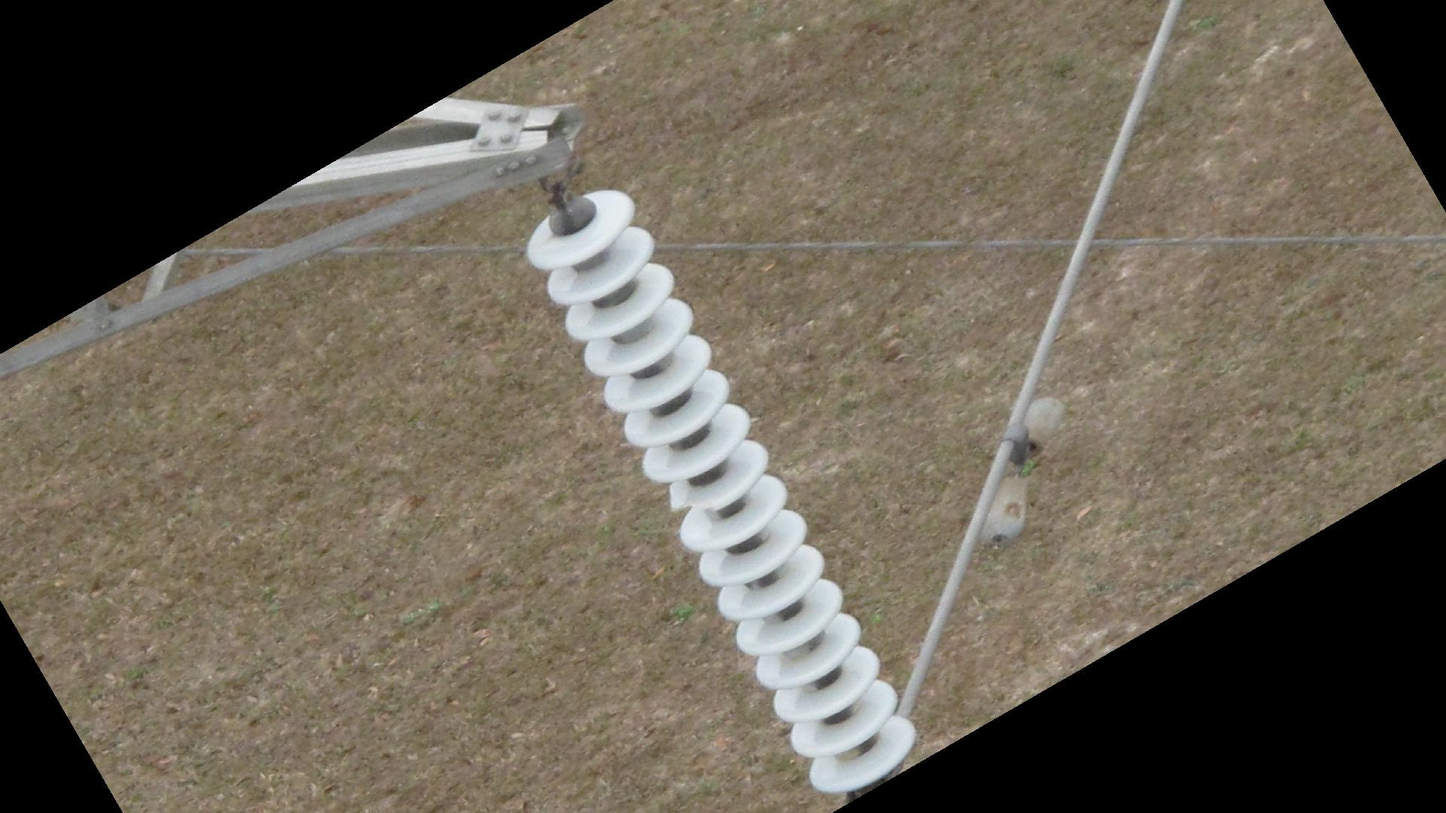insulator: (522, 186, 923, 799)
insulator_breakage: (664, 480, 719, 520)
